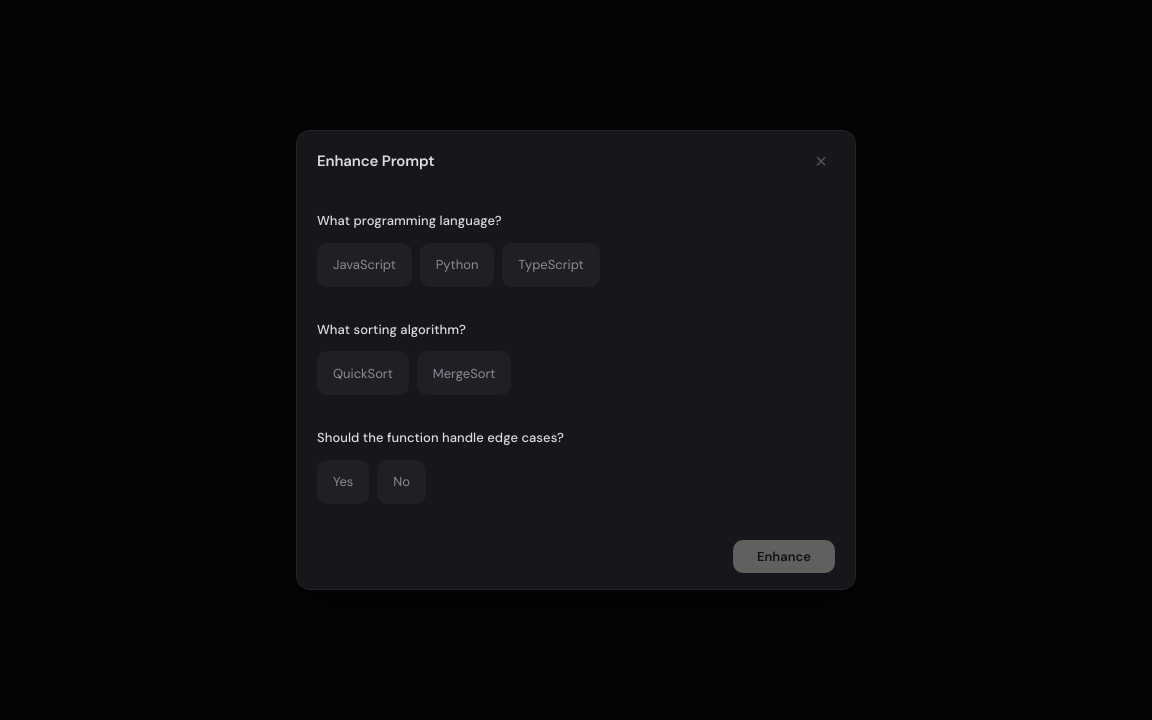
Scenario: PromptEnhanceModal › result view shows enhanced prompt
This screenshot has width=1152, height=720.
Check: the text "What programming language?" is shown, box [317,212,502,229]
What coordinates should you click on to do the following:
click the button "TypeScript"
I would click on:
 (551, 265)
Its box is [502,243,600,287].
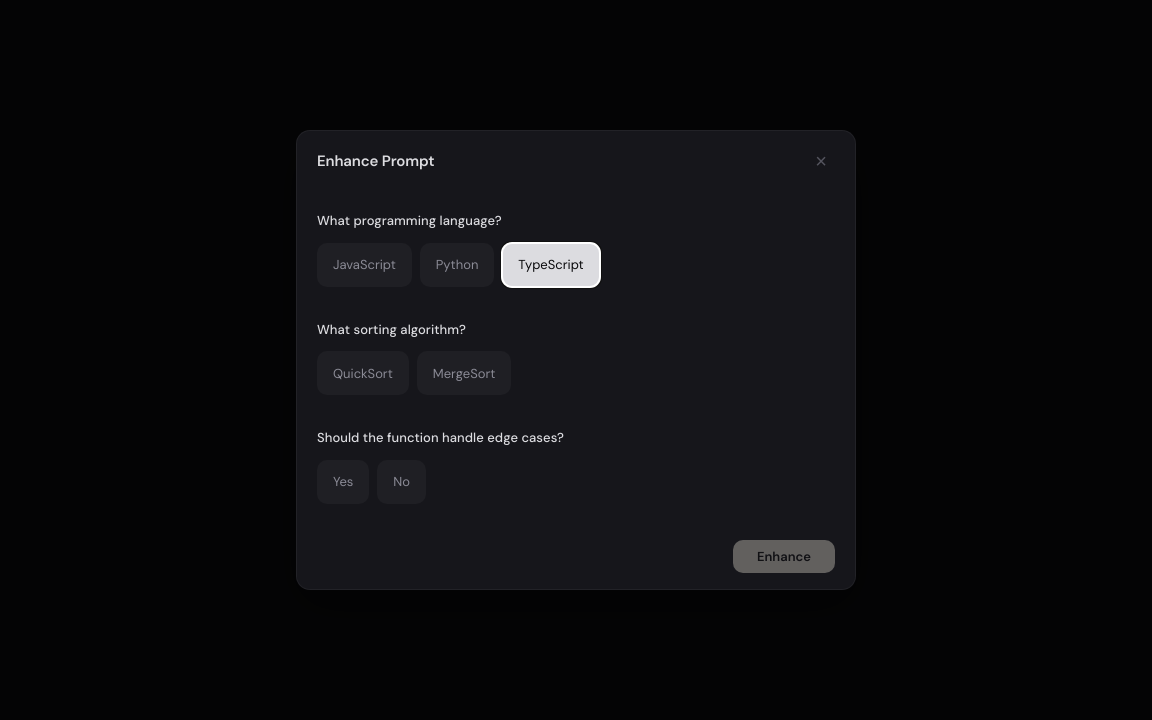
What coordinates should you click on to do the following:
click the button "QuickSort"
I would click on:
 (363, 373)
Its box is [317,351,409,395].
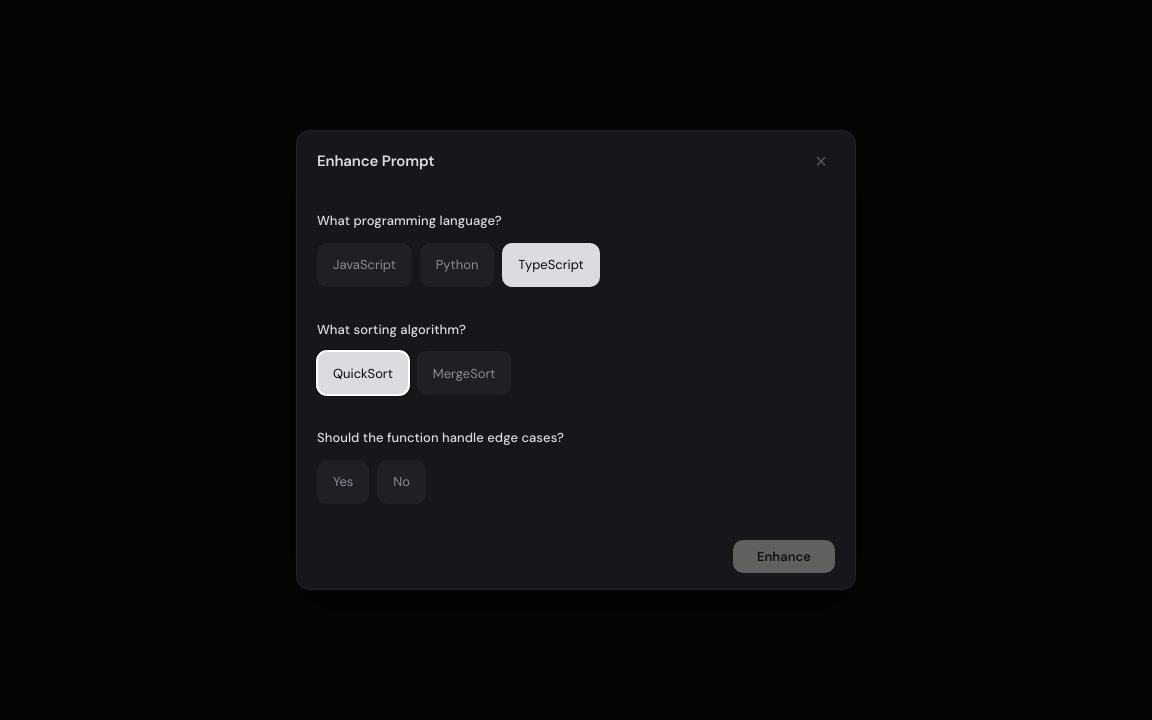
What coordinates should you click on to do the following:
click the button "Yes"
I would click on:
 (343, 482)
Its box is [317,460,369,504].
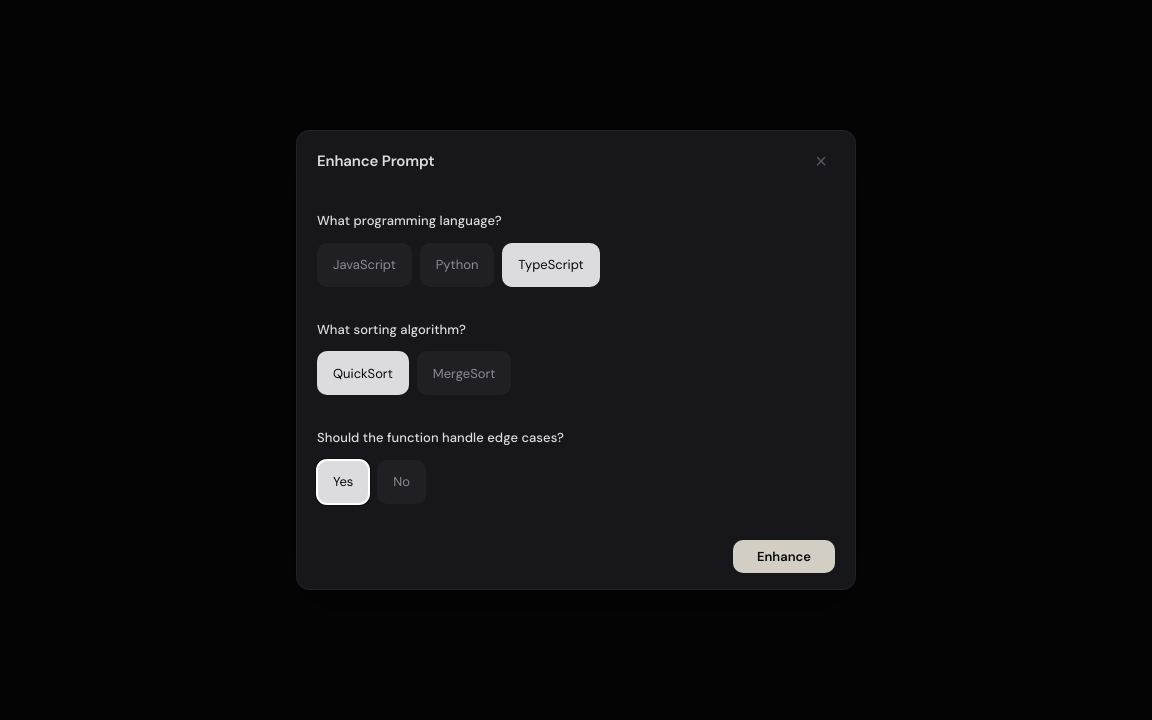
What coordinates should you click on to do the following:
click the button "Enhance"
I would click on:
 (784, 556)
Its box is [733,540,835,573].
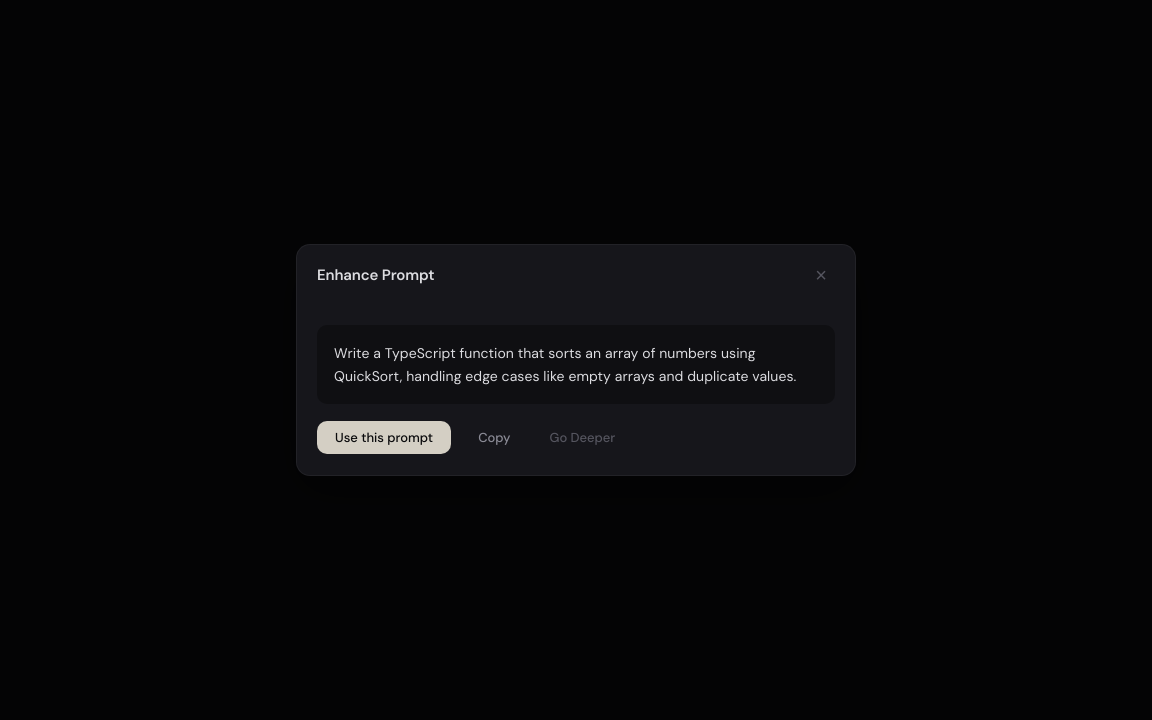
Check: the text "Write a TypeScript function that sorts an array of numbers using QuickSort, handling edge cases like empty arrays and du" is shown, box [334,344,796,384]
